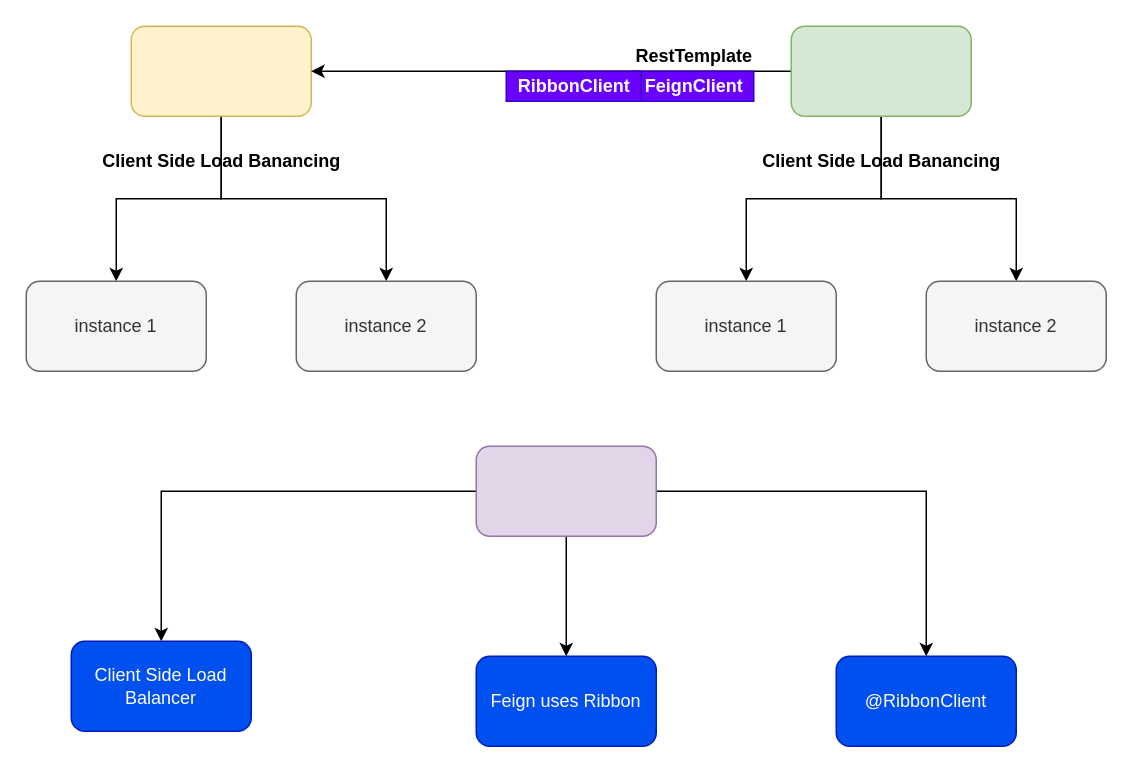
Image size: 1133x773. Some labels were removed from this diagram. The shapes that lost their labels are listed below. From the top down, each one's centre as x and y in pixels, then its label:
At [220,70]: "product-service".
At [880,70]: "product-client".
At [565,490]: "Ribbon".
